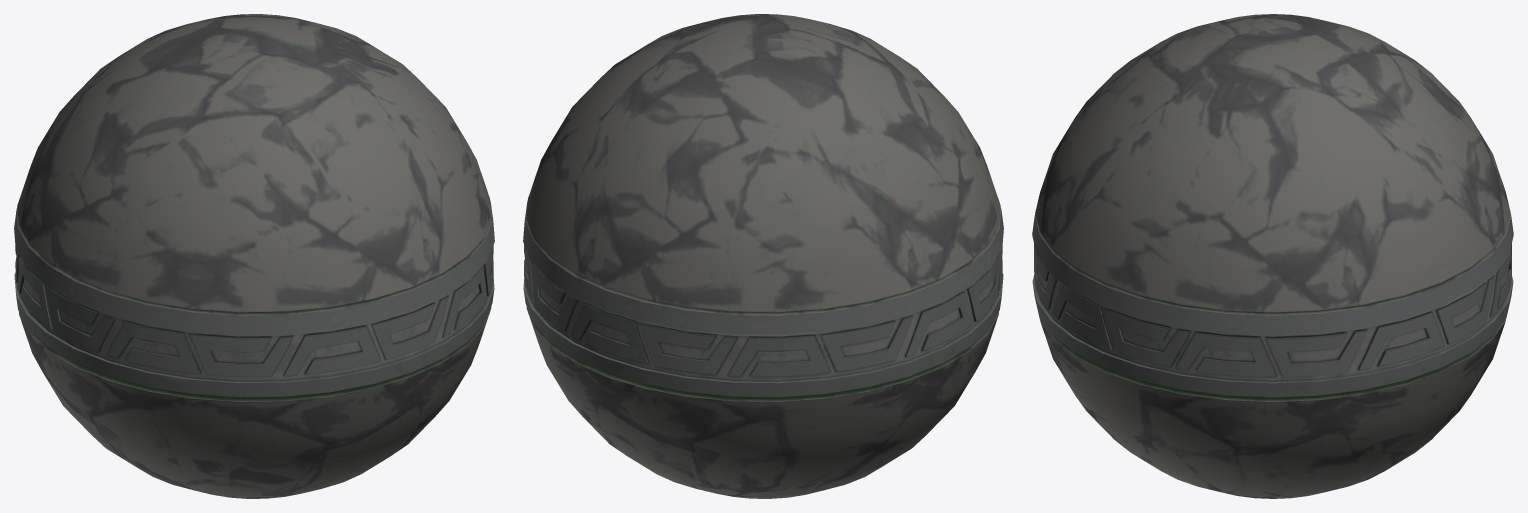
Rendered from rock2.glb.
The picture shows the model from 3 angles, left to right: view 1: azimuth 30°, elevation 25°; view 2: azimuth 150°, elevation 25°; view 3: azimuth 270°, elevation 25°; orthographic projection.
Parts seen in each view (by area): view 1: Object_2; view 2: Object_2; view 3: Object_2.
Boxes of the visible parts, x1=… form: Object_2: x1=14, y1=14, x2=494, y2=498; Object_2: x1=523, y1=14, x2=1003, y2=498; Object_2: x1=1032, y1=14, x2=1513, y2=498.
Size of the model in its own units: 1.67 by 1.68 by 1.67.
1 material, 1 textured.
